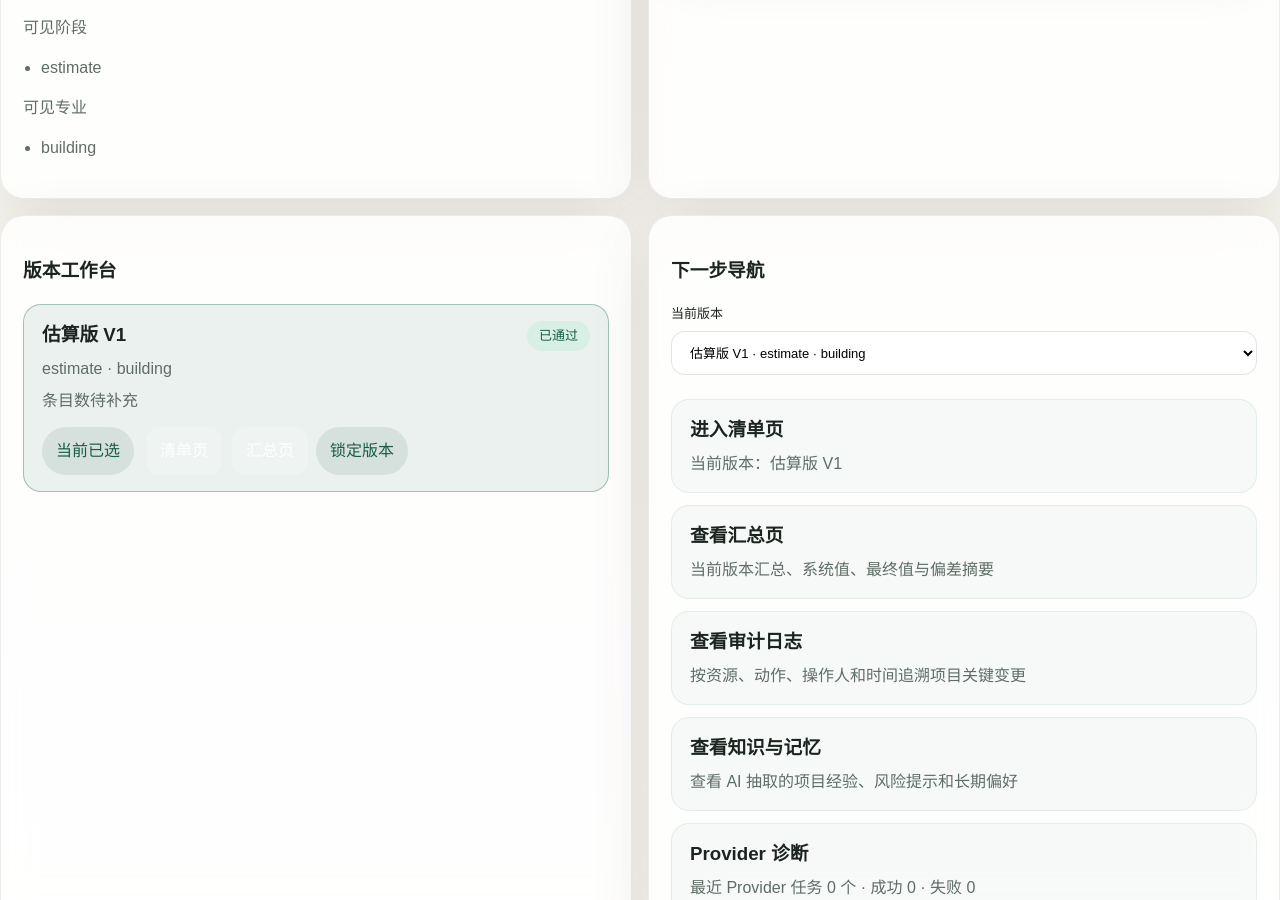
it: ProjectDetailPage › shows bill version lock and unlock actions from workspace status
(page scrolled)
Click the button "锁定版本".
click(362, 451)  # box [316,427,408,475]
(page scrolled)
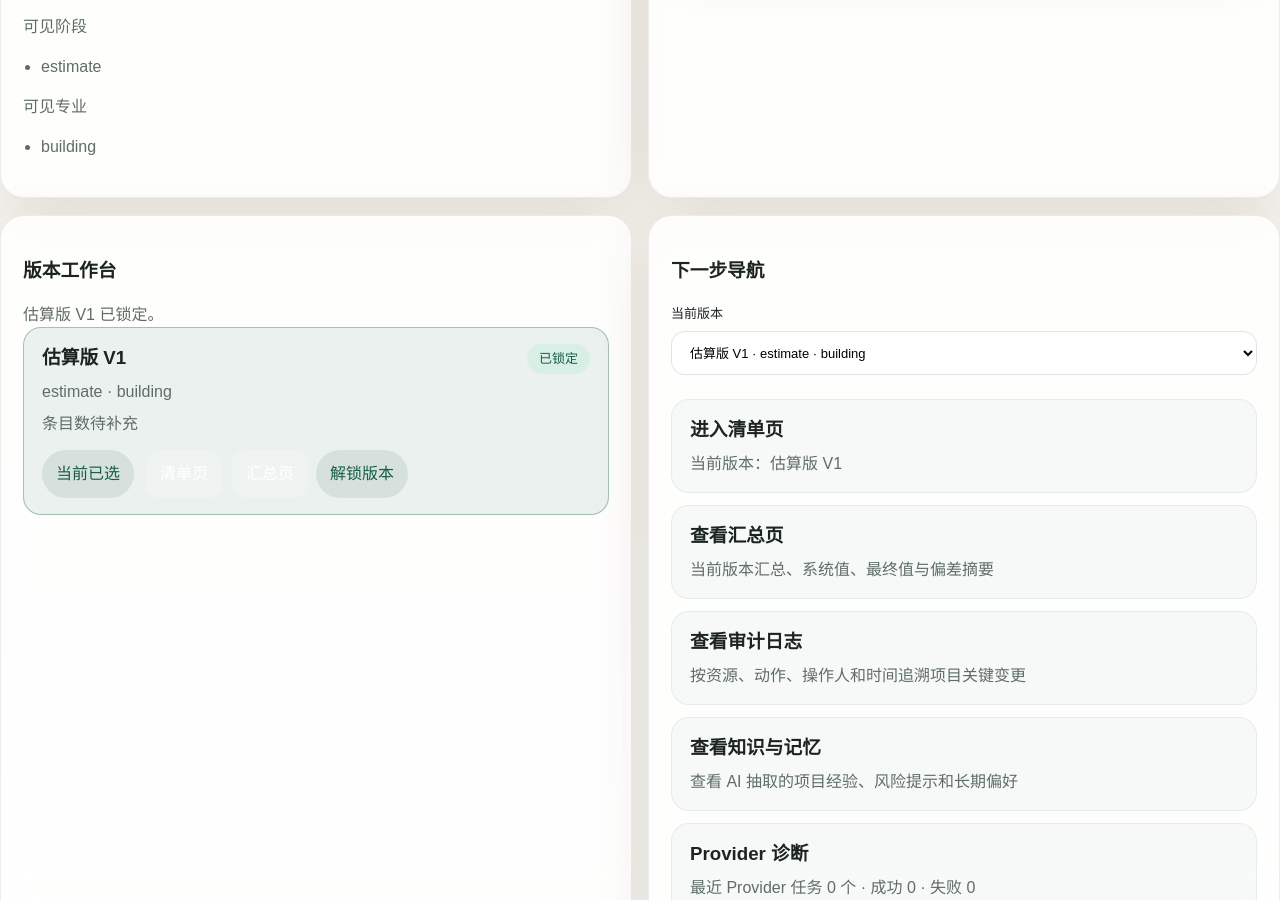
Expected: the text "估算版 V1 已锁定。" is shown, [23,306,164,323]
Expected: the text "已锁定" is shown, [527,344,590,374]
Expected: the button "解锁版本" is shown
Click the button "解锁版本".
click(362, 474)  # box [316,450,408,498]
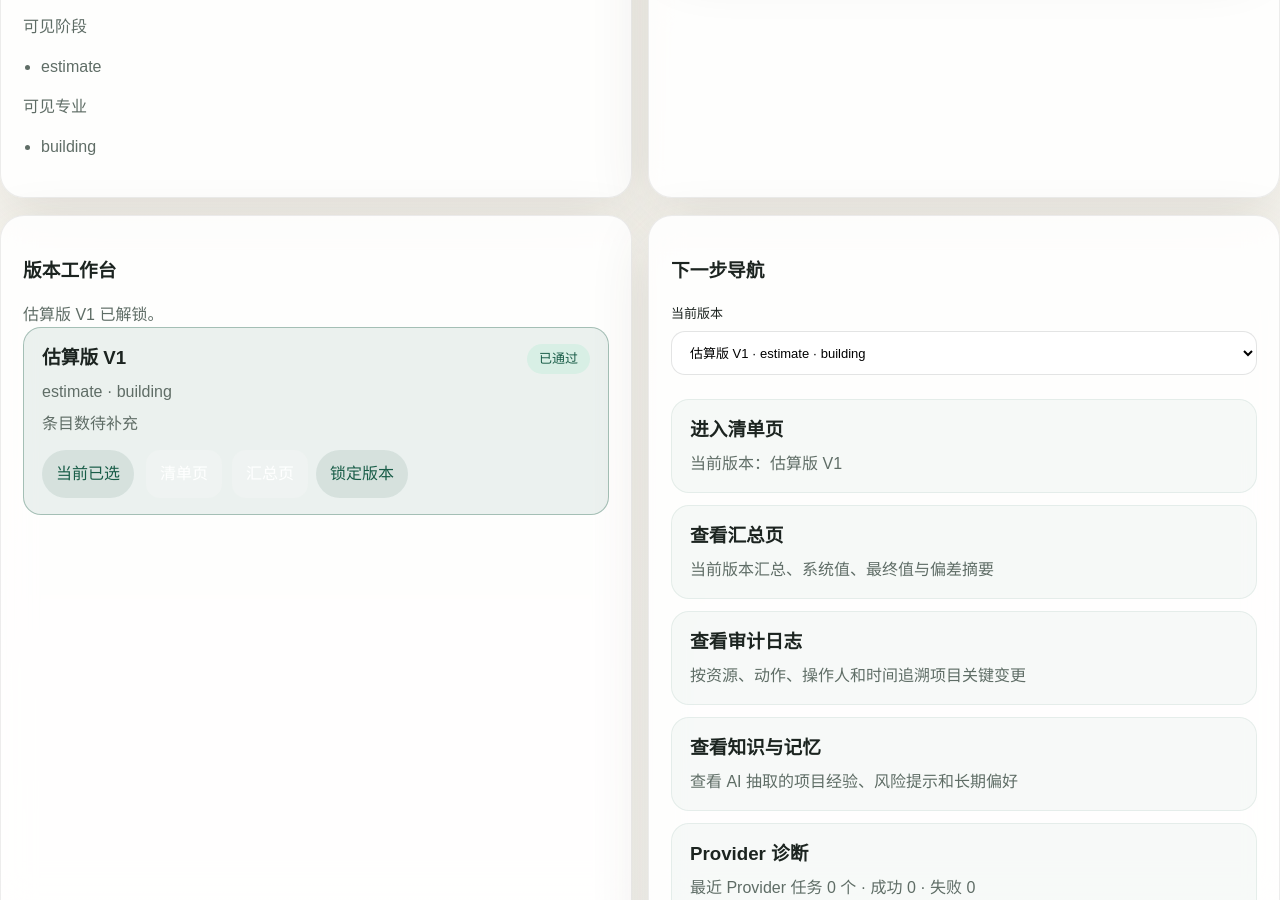
Expected: the text "估算版 V1 已解锁。" is shown, [23,306,164,323]
Expected: the button "锁定版本" is shown, [316,450,408,498]
